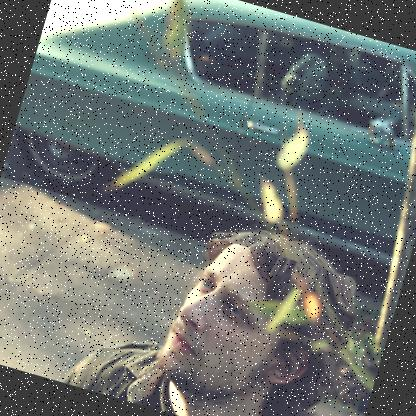Car: (1, 0, 415, 293)
